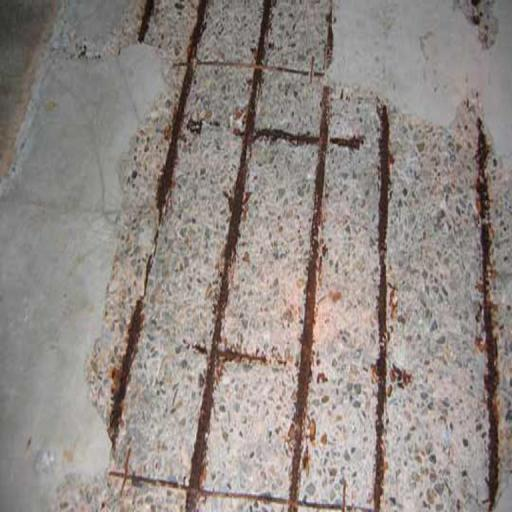spalling: (56, 0, 512, 512), (453, 0, 501, 52)
